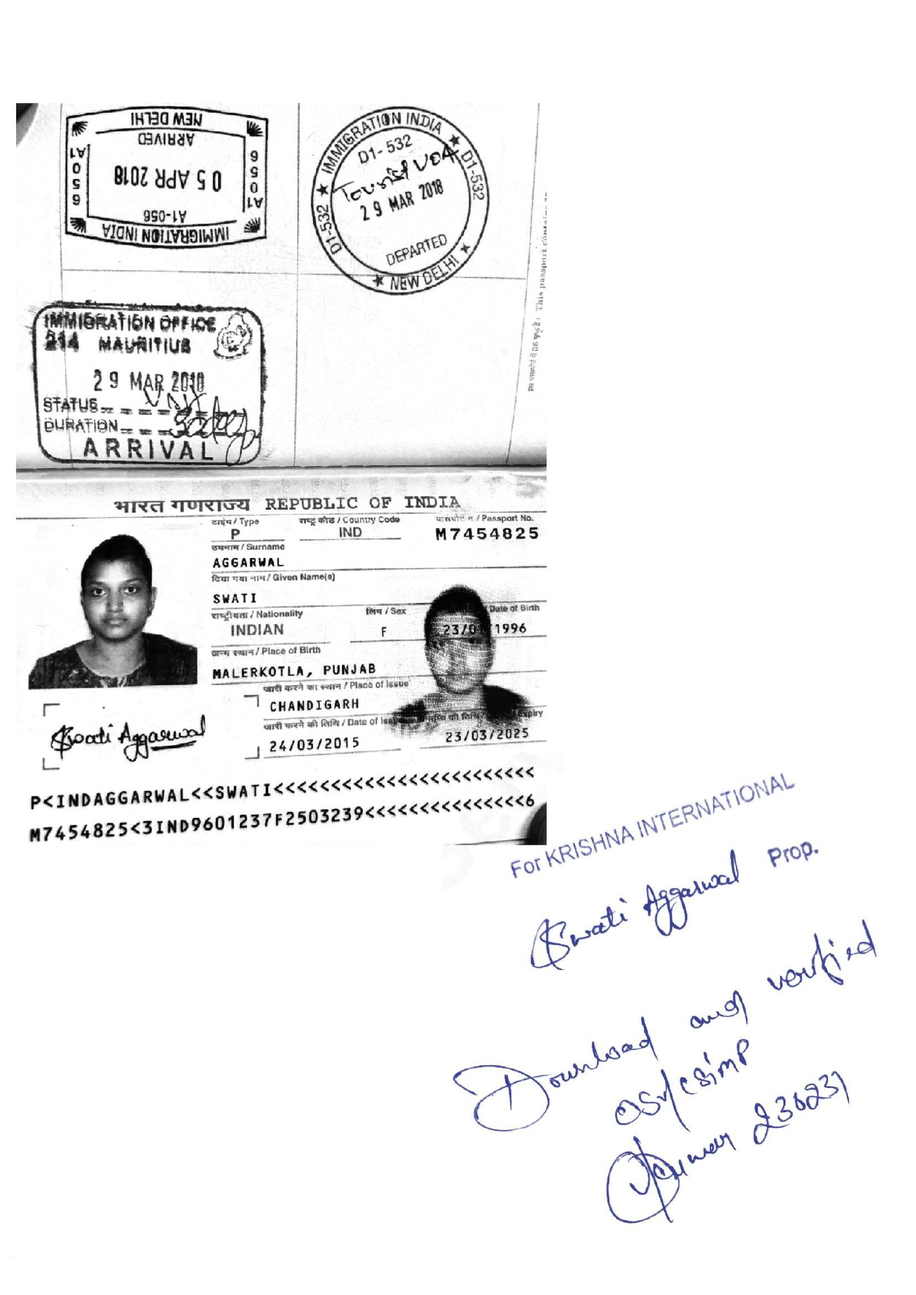DOB: (415, 612, 538, 647)
Surname: (209, 551, 288, 575)
country_code: (335, 522, 367, 542)
date_of_expiry: (419, 721, 539, 750)
date_of_issue: (265, 733, 377, 755)
details: (19, 769, 533, 852)
name: (203, 586, 273, 611)
nationality: (215, 616, 301, 643)
passport_no: (426, 521, 544, 548)
photo: (38, 531, 190, 681)
place_of_birth: (205, 659, 381, 682)
place_of_issue: (267, 693, 365, 718)
sex: (365, 617, 401, 643)
sign: (48, 712, 227, 764)
type: (217, 524, 257, 546)
